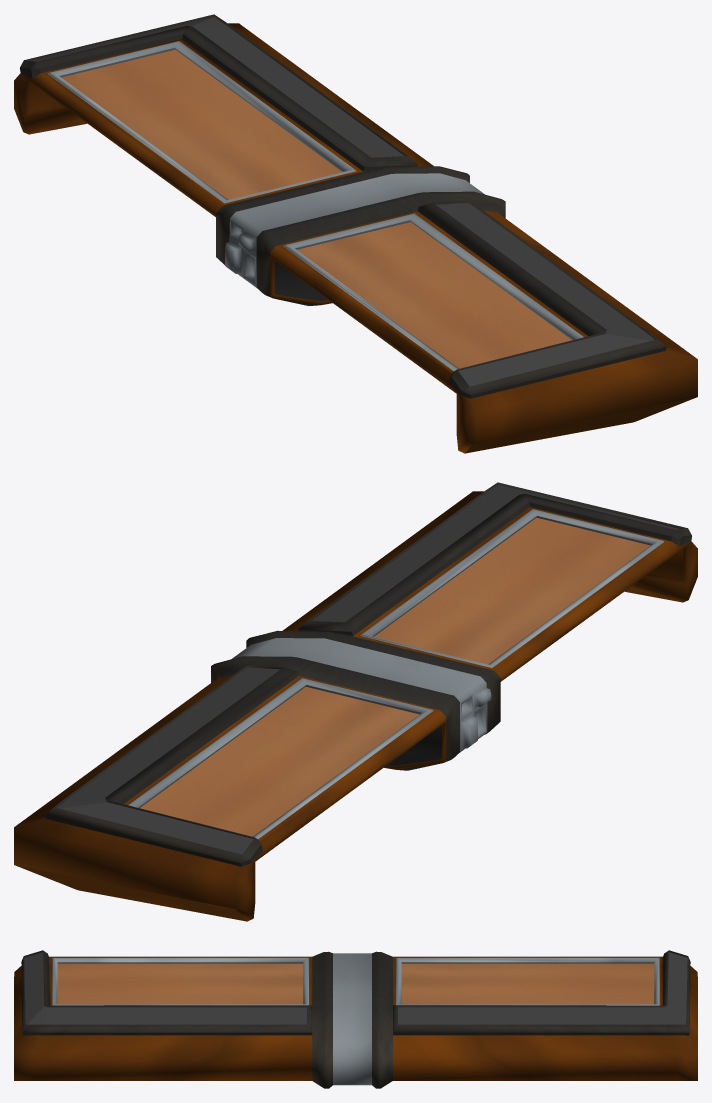
Rendered from OS_HA_Flap_2_B.obj.
3 renders of one model, top to bottom at view 1: azimuth 30°, elevation 25°; view 2: azimuth 150°, elevation 25°; view 3: azimuth 270°, elevation 25°, orthographic. The views are drawn at different scales.
Parts seen in each view (by area): view 1: Cube.001_Cube.005; view 2: Cube.001_Cube.005; view 3: Cube.001_Cube.005.
Boxes of the visible parts, x1,y1,x2,y2 form: Cube.001_Cube.005: [14, 14, 697, 453]; Cube.001_Cube.005: [14, 482, 697, 921]; Cube.001_Cube.005: [14, 950, 697, 1088].
Bounding box in the file's own units: 0.7551 × 0.2732 × 2.38.
